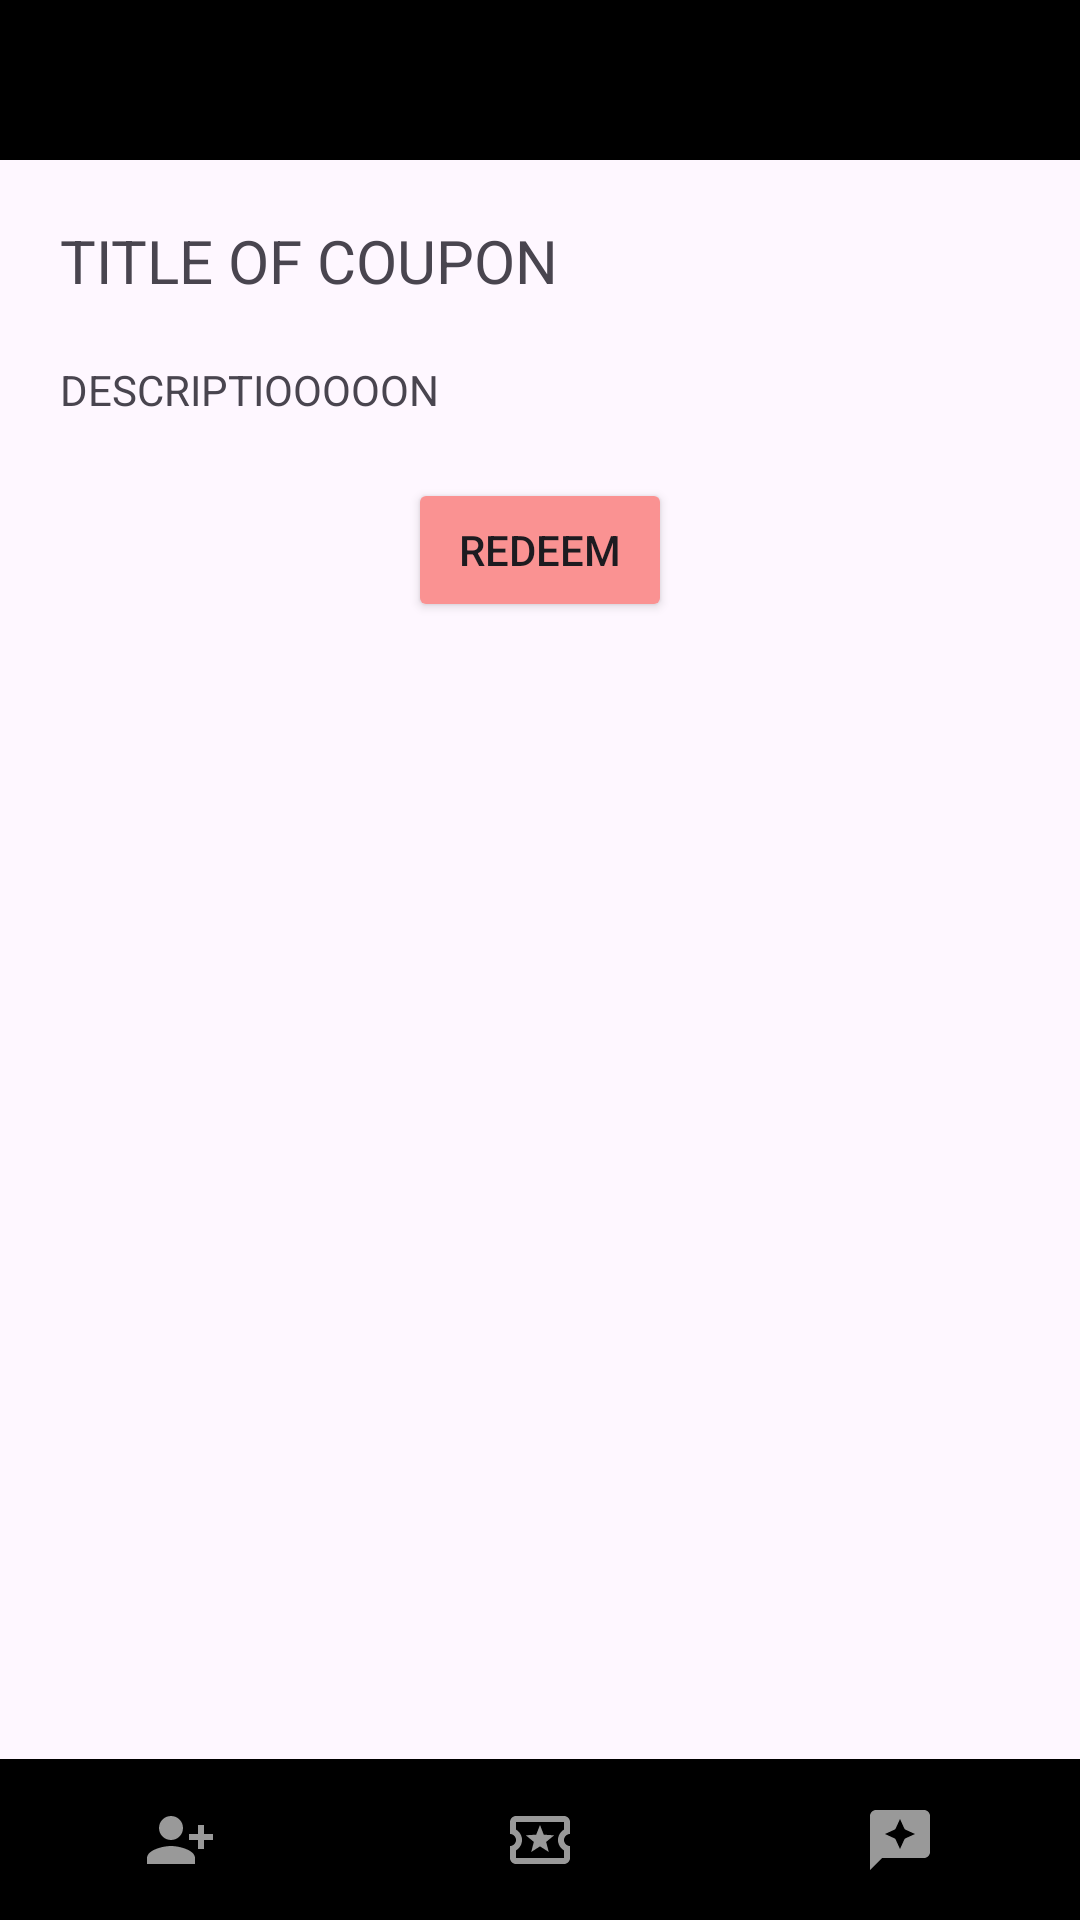

Icons on this 1080 x 1920 Android screen, each with its box as Rect(x1, y1, x2, y2):
local activity: Rect(510, 1816, 570, 1864)
person add: Rect(147, 1816, 213, 1864)
reviews: Rect(870, 1810, 930, 1870)
